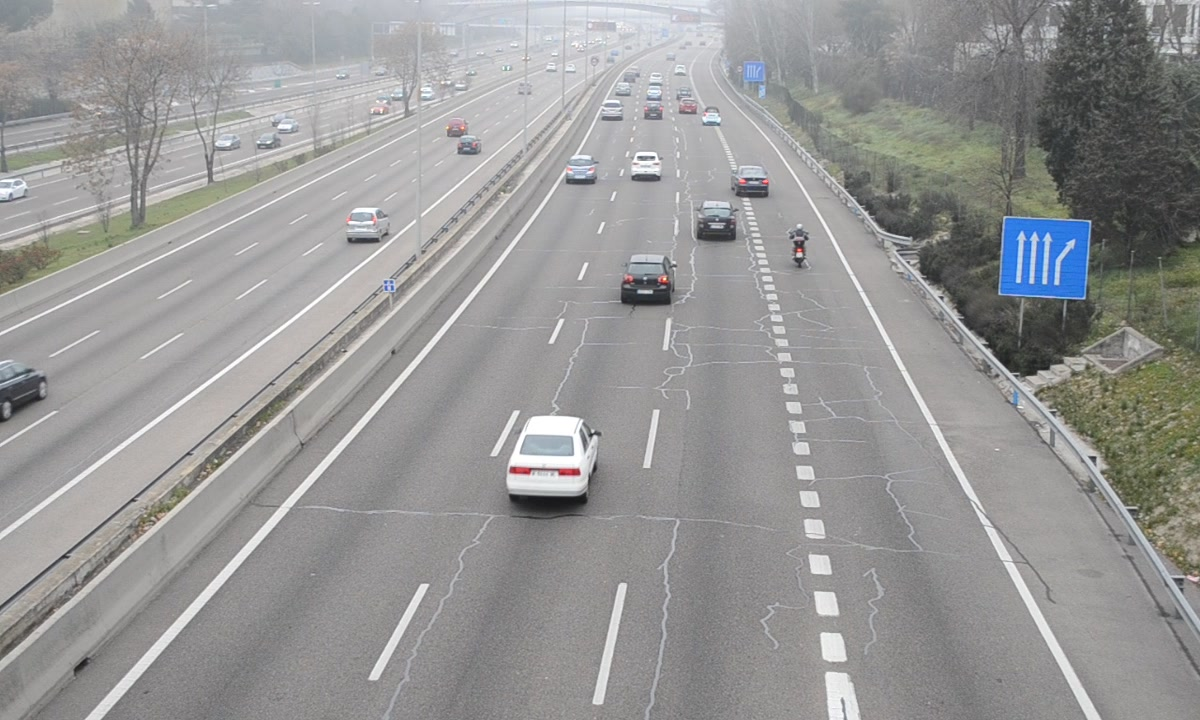car: (507, 416, 600, 497), (622, 257, 675, 304), (695, 202, 738, 238), (733, 166, 771, 200), (629, 152, 664, 183), (563, 155, 598, 183), (600, 98, 623, 122)
motorcycle: (790, 223, 811, 271)
